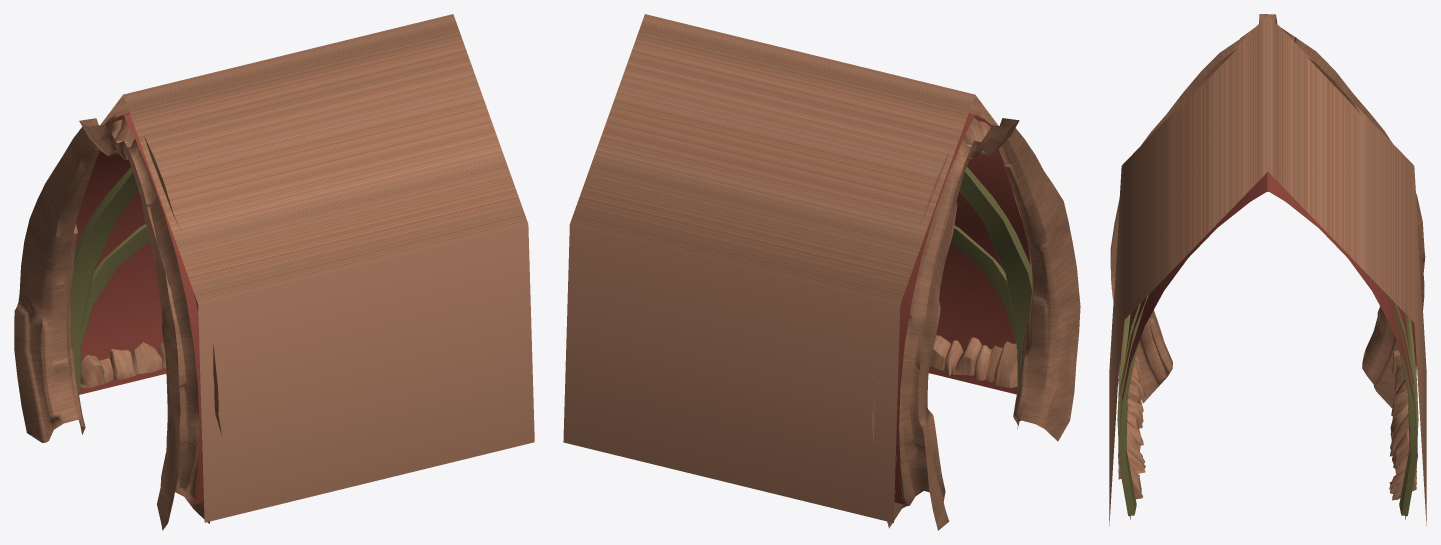
The model's file is Geonosis_Tunnel02_StraightShort.fbx.
3 renders of one model, left to right at view 1: azimuth 30°, elevation 25°; view 2: azimuth 150°, elevation 25°; view 3: azimuth 270°, elevation 25°, orthographic. The views are drawn at different scales.
Parts seen in each view (by area): view 1: Geonosis_Tunnel02_Short; view 2: Geonosis_Tunnel02_Short; view 3: Geonosis_Tunnel02_Short.
Part boxes in pixels (<box>): Geonosis_Tunnel02_Short: <box>14,14,534,530</box>; Geonosis_Tunnel02_Short: <box>563,14,1080,530</box>; Geonosis_Tunnel02_Short: <box>1109,14,1426,525</box>.
Bounding box in the file's own units: 562 × 569 × 427.
